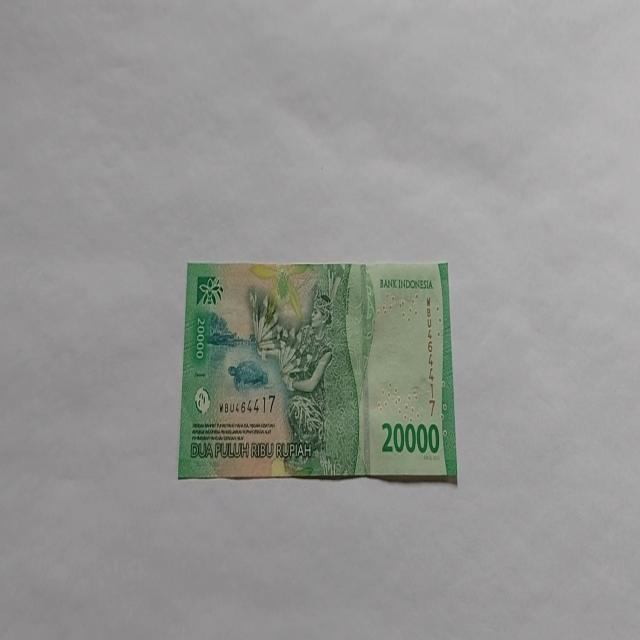dua puluh ribu rupiah: (177, 258, 458, 484), (248, 267, 344, 473)
